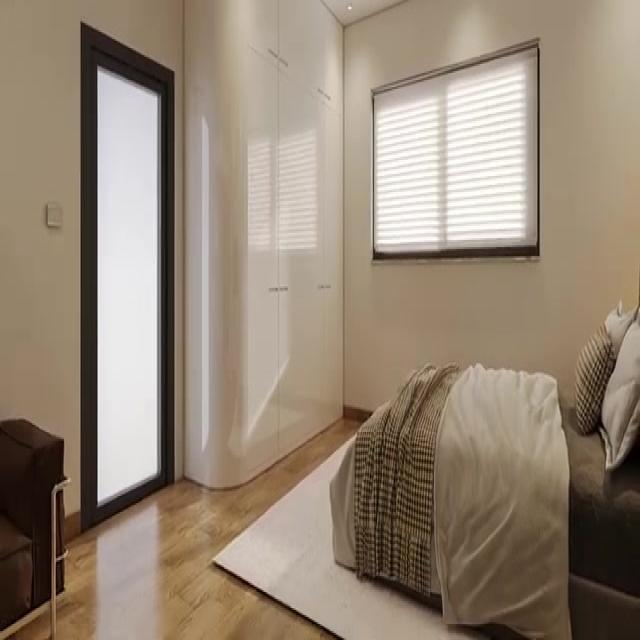door: (82, 23, 175, 510)
obstacle: (329, 300, 639, 640)
